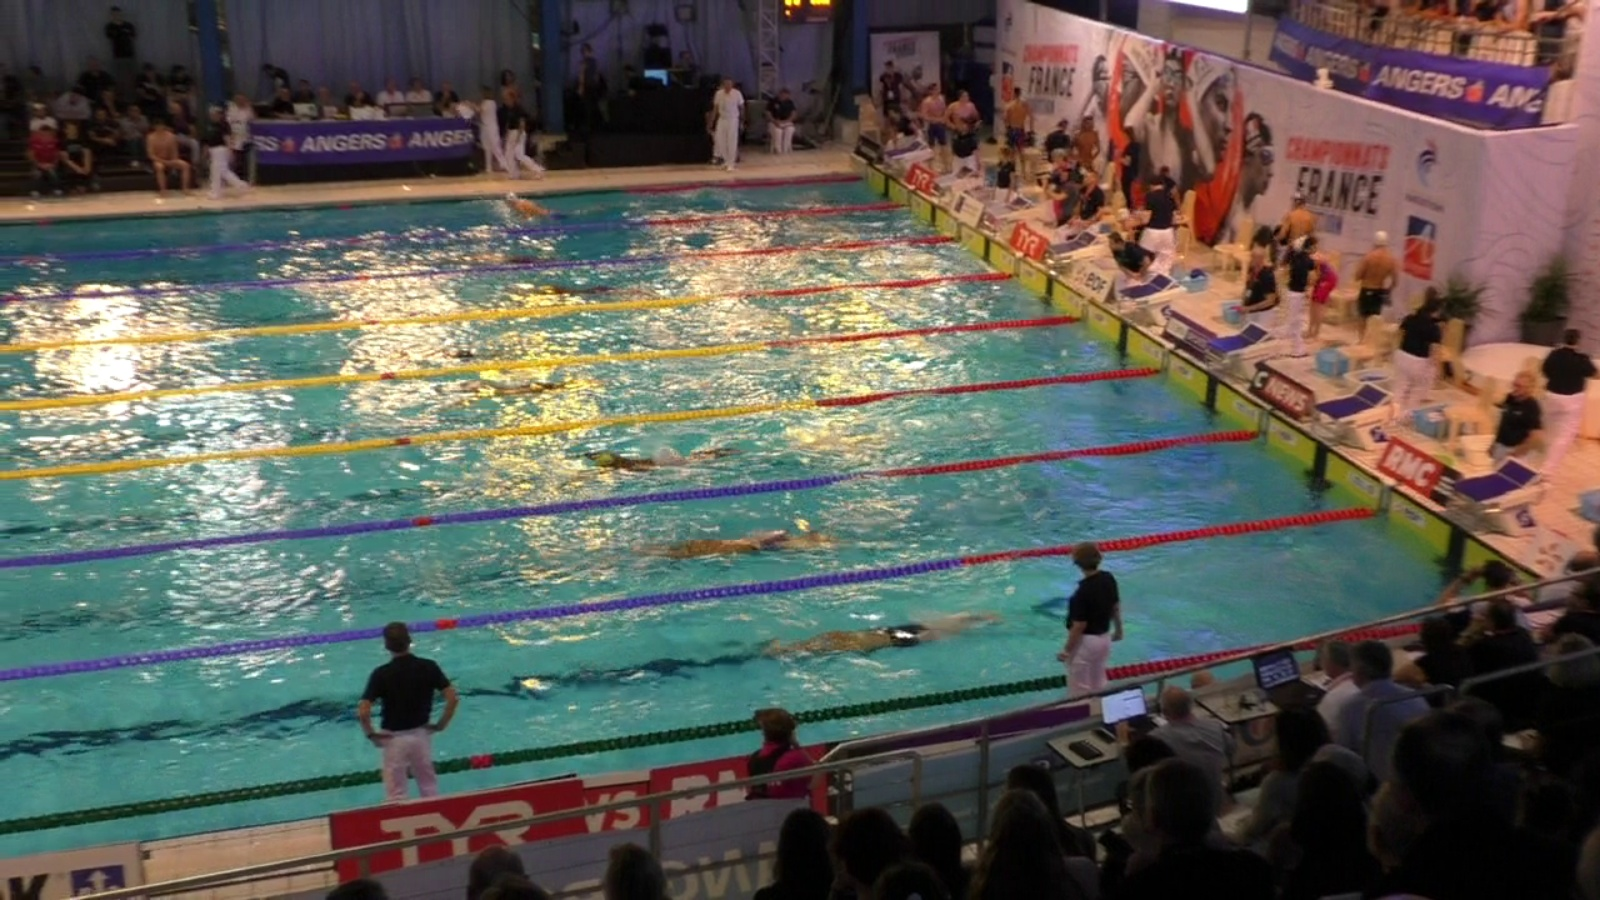swimmerwdd: (762, 609, 1001, 669), (581, 449, 747, 493), (645, 525, 826, 562), (446, 379, 642, 400), (493, 193, 597, 224), (447, 247, 558, 273), (431, 341, 591, 355), (501, 285, 634, 300)
